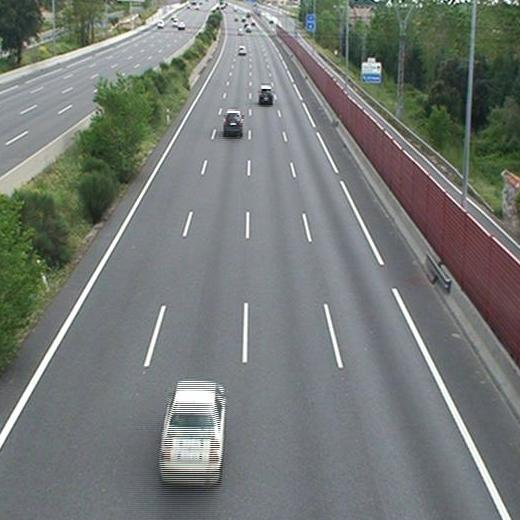car: (159, 382, 227, 479), (224, 111, 243, 132), (258, 87, 273, 102), (237, 45, 246, 54)
